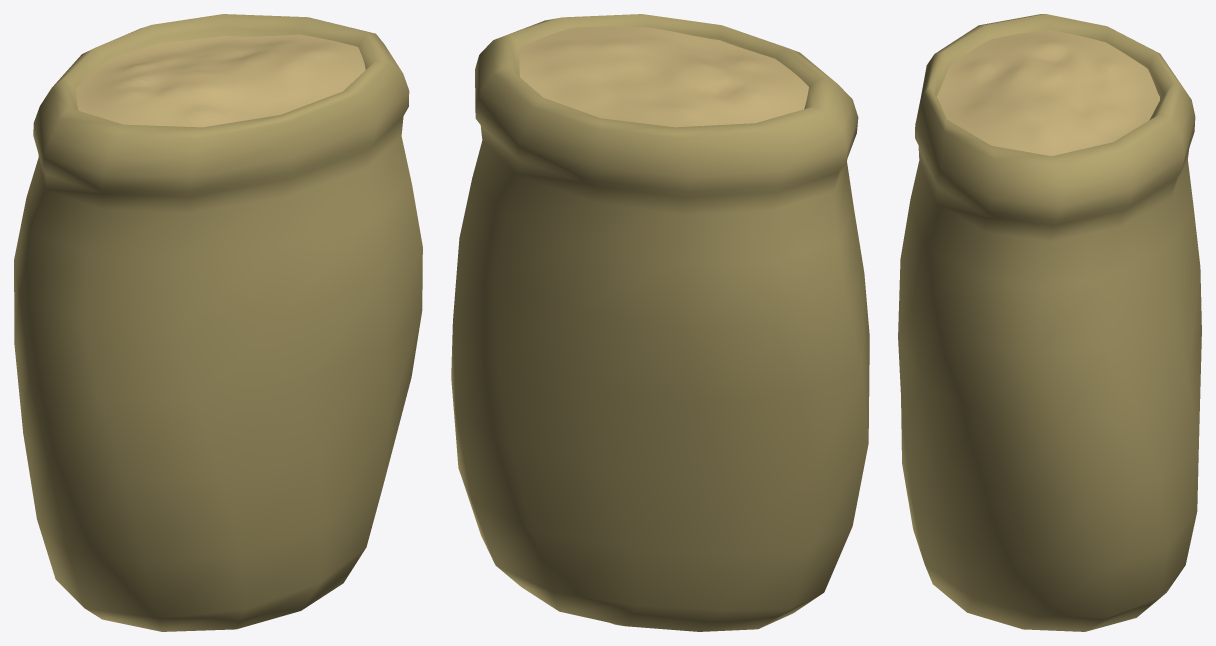
File: BagofWheat.fbx
3 views of the same model, side by side, from view 1: azimuth 30°, elevation 25°; view 2: azimuth 150°, elevation 25°; view 3: azimuth 270°, elevation 25° (orthographic). The views are drawn at different scales.
Parts seen in each view (by area): view 1: pCylinder15; view 2: pCylinder15; view 3: pCylinder15.
Boxes of the visible parts, box(x1,y1,x2,y2) form: pCylinder15: box(14, 14, 422, 631); pCylinder15: box(451, 14, 869, 631); pCylinder15: box(898, 14, 1201, 631).
Size of the model in its own units: 1.72 by 2.19 by 1.2.
